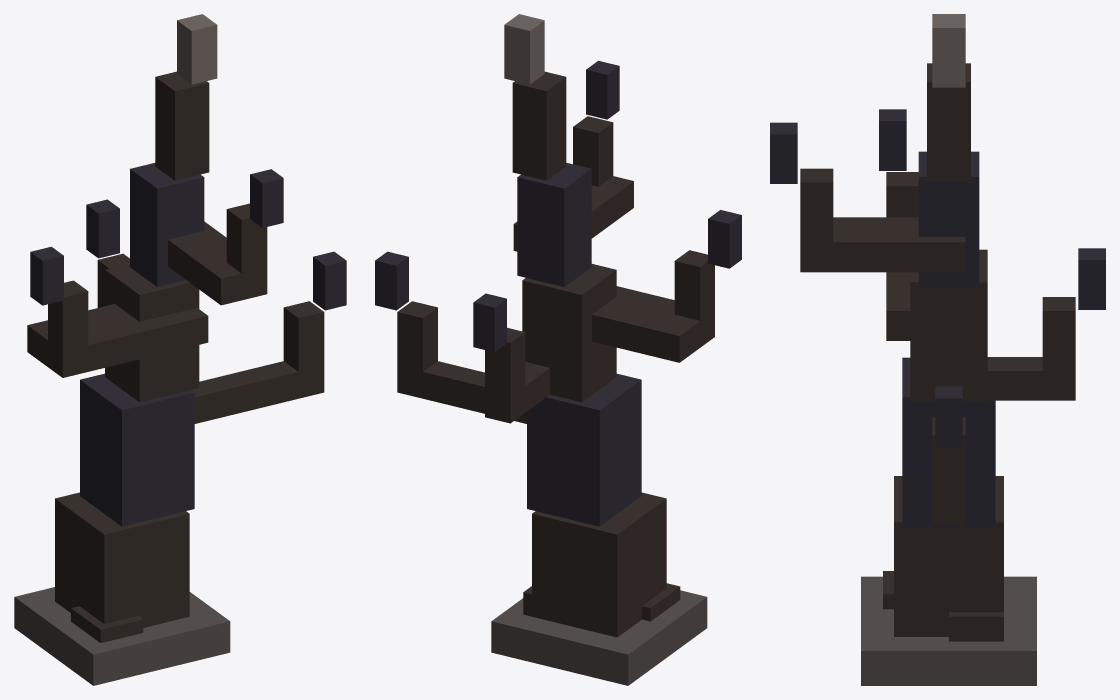
Rendered from DeadTree.glb.
3 renders of one model, left to right at view 1: azimuth 30°, elevation 25°; view 2: azimuth 150°, elevation 25°; view 3: azimuth 270°, elevation 25°, orthographic. The views are drawn at different scales.
Parts seen in each view (by area): view 1: DeadTree; view 2: DeadTree; view 3: DeadTree.
Boxes of the visible parts, x1,y1,x2,y2 form: DeadTree: (14, 14, 346, 685); DeadTree: (375, 14, 741, 685); DeadTree: (770, 14, 1105, 685).
Size of the model in its own units: 7.7 by 13.4 by 6.1.
Materials: 1 (1 with a texture image).
